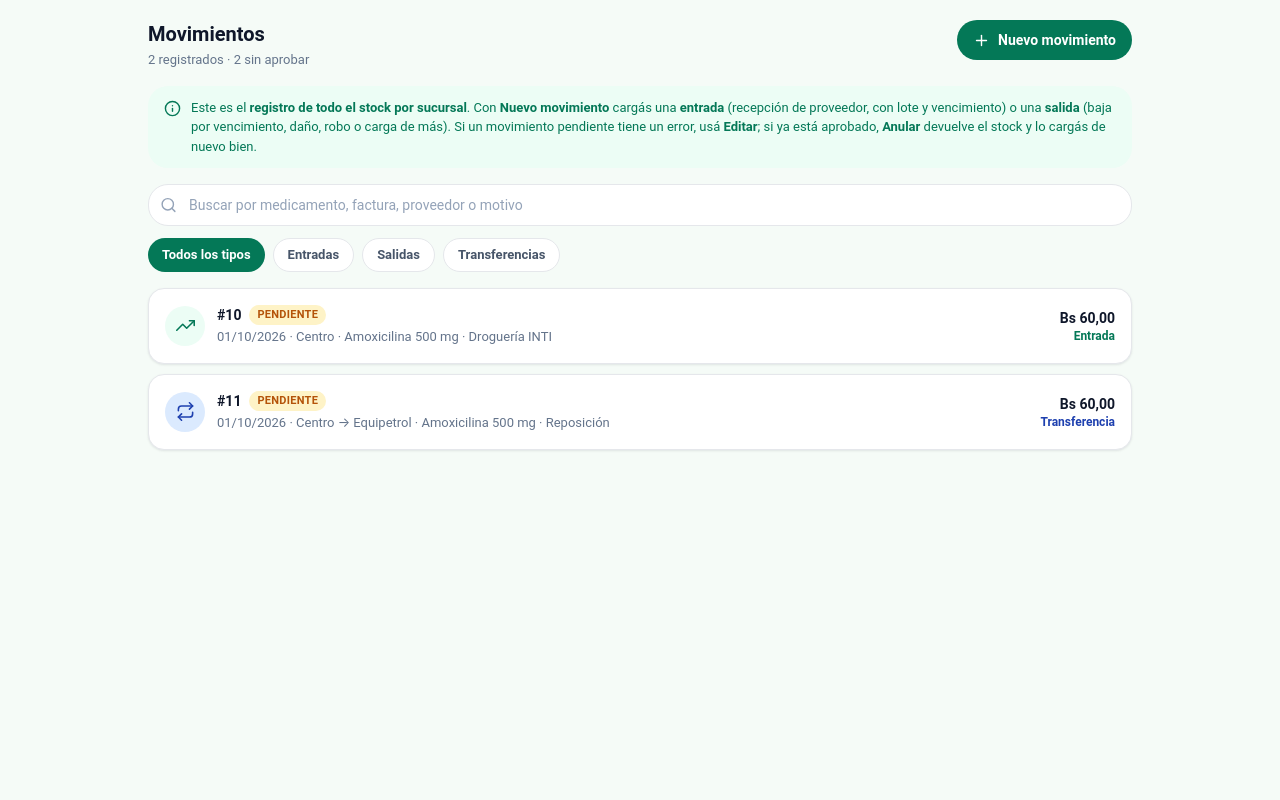
Aprobar una transferencia pide su permiso (16-oct) › una entrada sigue con la regla de siempre: el botón está
Click the text "01/10/2026 · Centro · Amoxicilina 500 mg · Droguería INTI" at (384,336), box [217, 329, 552, 344]
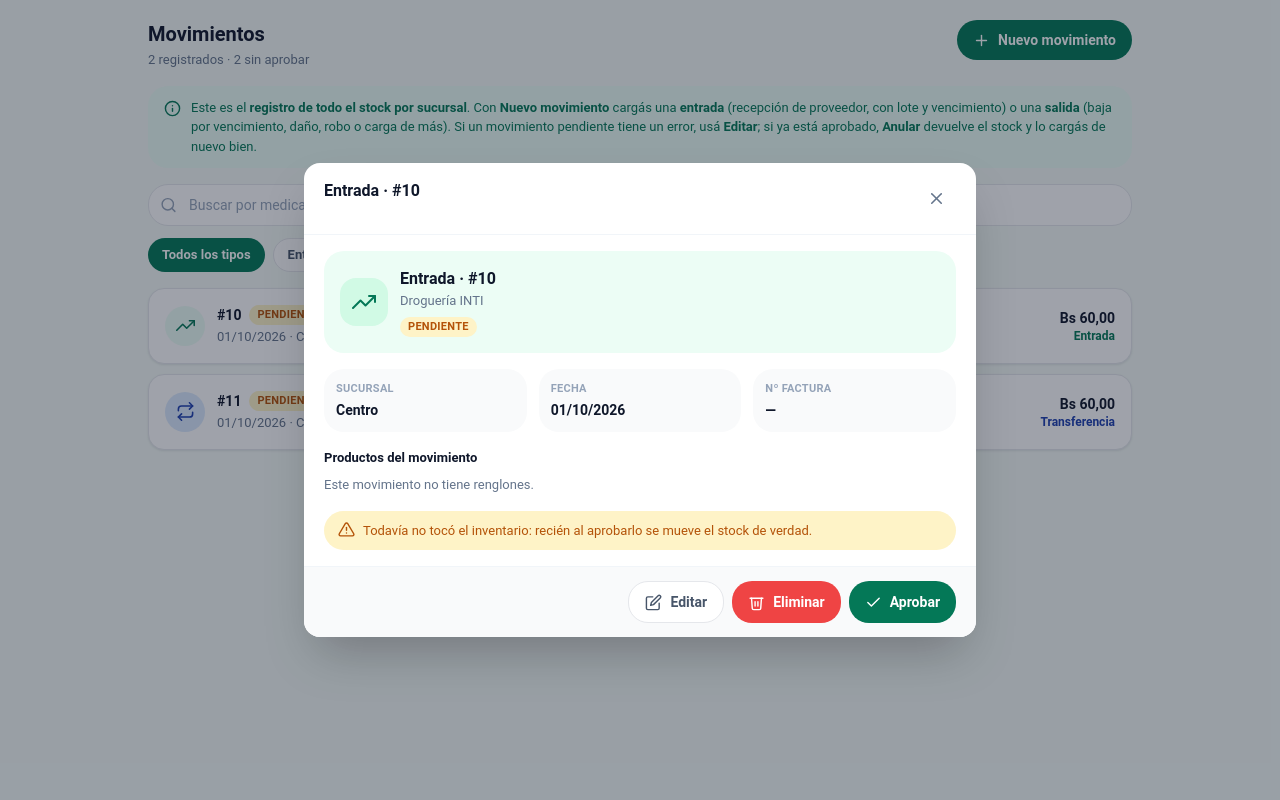
Now the button "Aprobar" is shown, box [849, 581, 956, 623]
